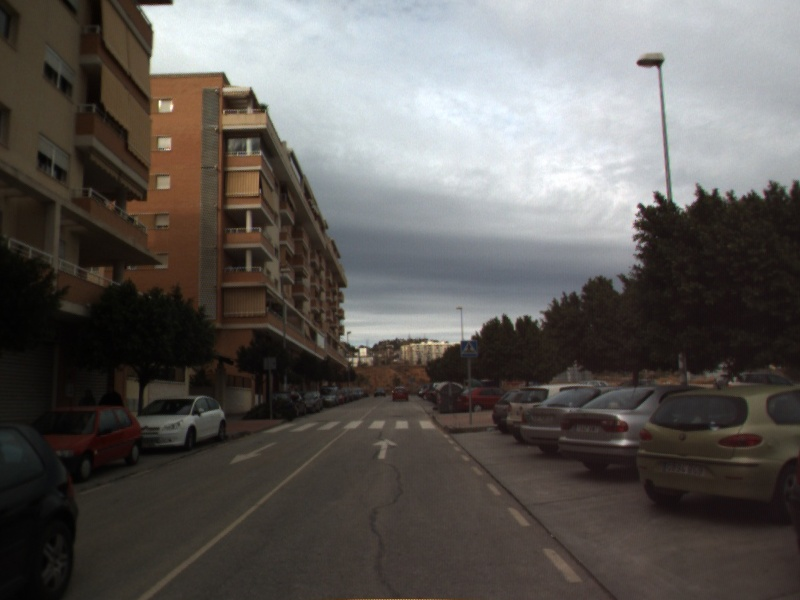STRAIGHT: (371, 436, 399, 461)
